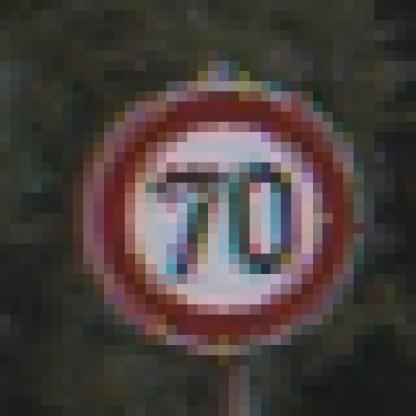Speed Limit 70: (97, 88, 351, 344)
